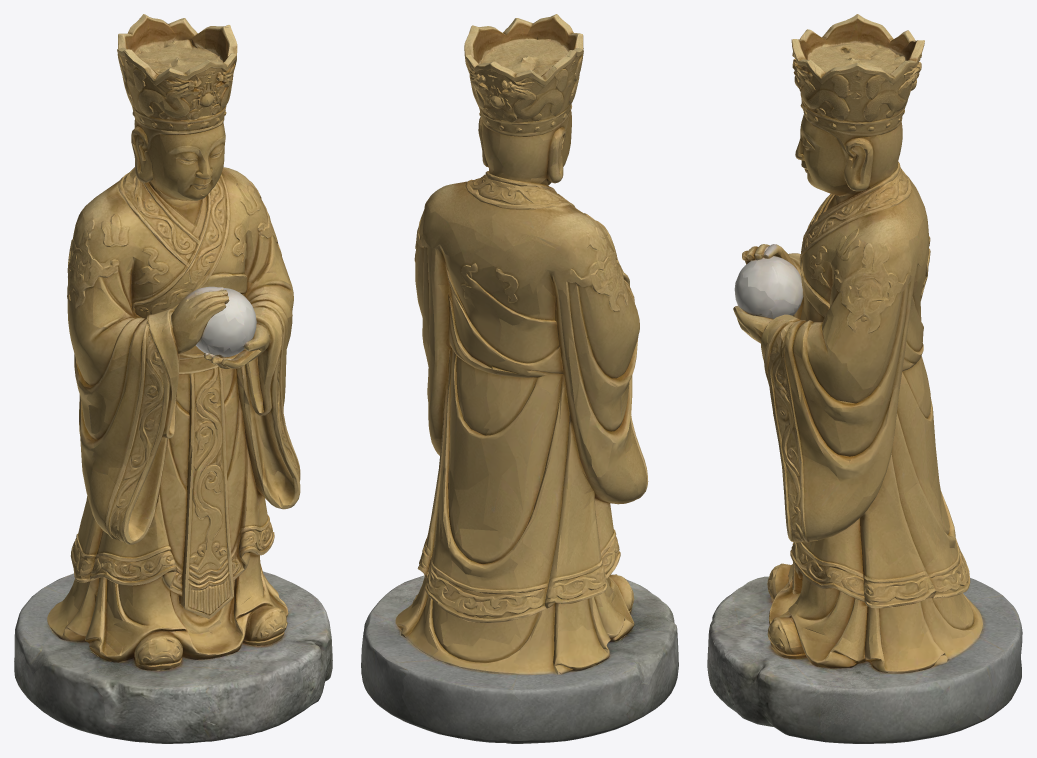
Rendered from statue-yongwang.glb.
The picture shows the model from 3 angles, left to right: view 1: azimuth 30°, elevation 25°; view 2: azimuth 150°, elevation 25°; view 3: azimuth 270°, elevation 25°; orthographic projection.
Visible parts, largest first — view 1: output_unwrapped; view 2: output_unwrapped; view 3: output_unwrapped.
Part boxes in pixels (box(x1,y1,x2,y2)): output_unwrapped: box(14, 14, 332, 743); output_unwrapped: box(361, 14, 678, 743); output_unwrapped: box(707, 14, 1022, 743).
Size of the model in its own units: 0.8438 by 1.9 by 0.8478.
1 material, 1 textured.
